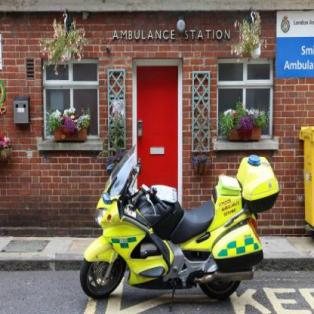Motocicleta: (77, 156, 263, 299)
